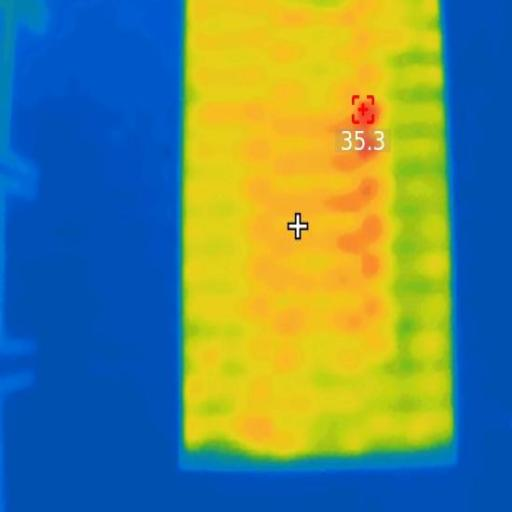hotspot: (344, 216, 386, 272), (354, 99, 382, 159), (336, 182, 383, 210)
